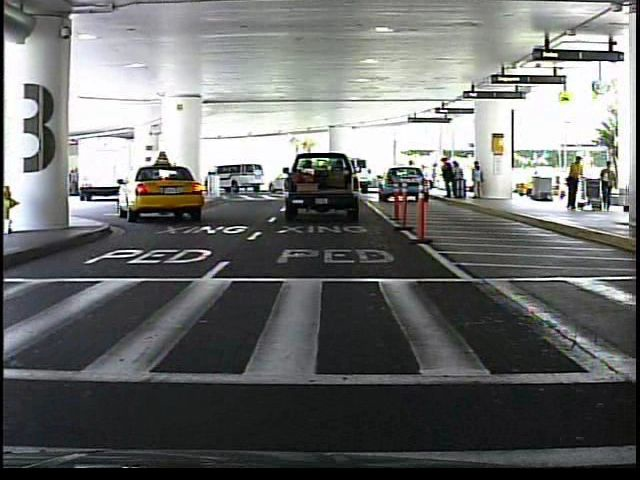person: (562, 154, 587, 214), (597, 158, 620, 214), (405, 158, 420, 193)
